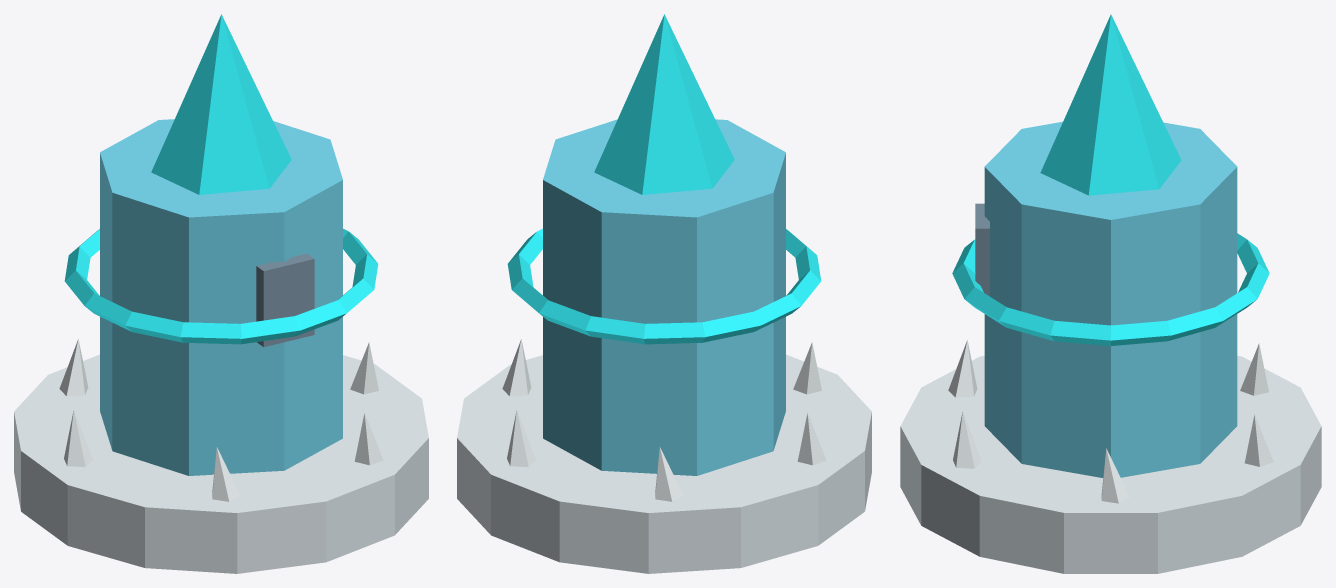
File: TD_SlowTower_T1.fbx
3 views of the same model, side by side, from view 1: azimuth 30°, elevation 25°; view 2: azimuth 150°, elevation 25°; view 3: azimuth 270°, elevation 25° (orthographic).
Visible parts, largest first — view 1: TD_SlowTower_T1_Body, TD_SlowTower_T1_Base, TD_SlowTower_T1_IceCrystal_Main, TD_SlowTower_T1_FrostRing, TD_SlowTower_T1_DarkFocusSlot, TD_SlowTower_T1_IceSpike_04, TD_SlowTower_T1_IceSpike_03, TD_SlowTower_T1_IceSpike_05, TD_SlowTower_T1_IceSpike_06, TD_SlowTower_T1_IceSpike_01; view 2: TD_SlowTower_T1_Body, TD_SlowTower_T1_Base, TD_SlowTower_T1_IceCrystal_Main, TD_SlowTower_T1_FrostRing, TD_SlowTower_T1_IceSpike_02, TD_SlowTower_T1_IceSpike_01, TD_SlowTower_T1_IceSpike_03, TD_SlowTower_T1_IceSpike_04, TD_SlowTower_T1_IceSpike_05; view 3: TD_SlowTower_T1_Body, TD_SlowTower_T1_Base, TD_SlowTower_T1_IceCrystal_Main, TD_SlowTower_T1_FrostRing, TD_SlowTower_T1_DarkFocusSlot, TD_SlowTower_T1_IceSpike_05, TD_SlowTower_T1_IceSpike_06, TD_SlowTower_T1_IceSpike_01, TD_SlowTower_T1_IceSpike_03, TD_SlowTower_T1_IceSpike_02.
Boxes of the visible parts, <box> form: TD_SlowTower_T1_Body: <box>100,119,342,475</box>; TD_SlowTower_T1_Base: <box>14,354,428,573</box>; TD_SlowTower_T1_IceCrystal_Main: <box>151,14,291,194</box>; TD_SlowTower_T1_FrostRing: <box>64,228,378,344</box>; TD_SlowTower_T1_DarkFocusSlot: <box>256,253,314,347</box>; TD_SlowTower_T1_IceSpike_04: <box>64,409,92,467</box>; TD_SlowTower_T1_IceSpike_03: <box>59,339,88,396</box>; TD_SlowTower_T1_IceSpike_05: <box>212,447,240,501</box>; TD_SlowTower_T1_IceSpike_06: <box>354,413,383,465</box>; TD_SlowTower_T1_IceSpike_01: <box>350,342,378,394</box>; TD_SlowTower_T1_Body: <box>543,119,785,475</box>; TD_SlowTower_T1_Base: <box>457,354,871,573</box>; TD_SlowTower_T1_IceCrystal_Main: <box>594,14,734,194</box>; TD_SlowTower_T1_FrostRing: <box>507,228,821,344</box>; TD_SlowTower_T1_IceSpike_02: <box>507,409,535,467</box>; TD_SlowTower_T1_IceSpike_01: <box>502,339,531,396</box>; TD_SlowTower_T1_IceSpike_03: <box>655,447,683,501</box>; TD_SlowTower_T1_IceSpike_04: <box>797,413,826,465</box>; TD_SlowTower_T1_IceSpike_05: <box>793,342,821,394</box>; TD_SlowTower_T1_Body: <box>984,121,1237,477</box>; TD_SlowTower_T1_Base: <box>900,355,1321,573</box>; TD_SlowTower_T1_IceCrystal_Main: <box>1040,14,1181,195</box>; TD_SlowTower_T1_FrostRing: <box>952,233,1269,345</box>; TD_SlowTower_T1_DarkFocusSlot: <box>975,203,989,296</box>; TD_SlowTower_T1_IceSpike_05: <box>948,340,977,397</box>; TD_SlowTower_T1_IceSpike_06: <box>953,411,981,468</box>; TD_SlowTower_T1_IceSpike_01: <box>1101,448,1129,503</box>; TD_SlowTower_T1_IceSpike_03: <box>1240,343,1268,395</box>; TD_SlowTower_T1_IceSpike_02: <box>1244,414,1273,466</box>.
Bounding box in the file's own units: 0.9749 × 1.24 × 1.
